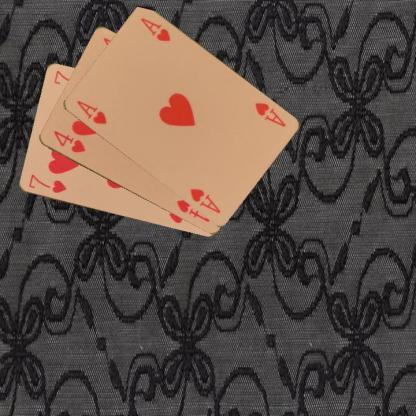4h: (50, 128, 87, 154)
7h: (26, 172, 67, 194)
Ah: (74, 98, 108, 126), (252, 100, 286, 128)
